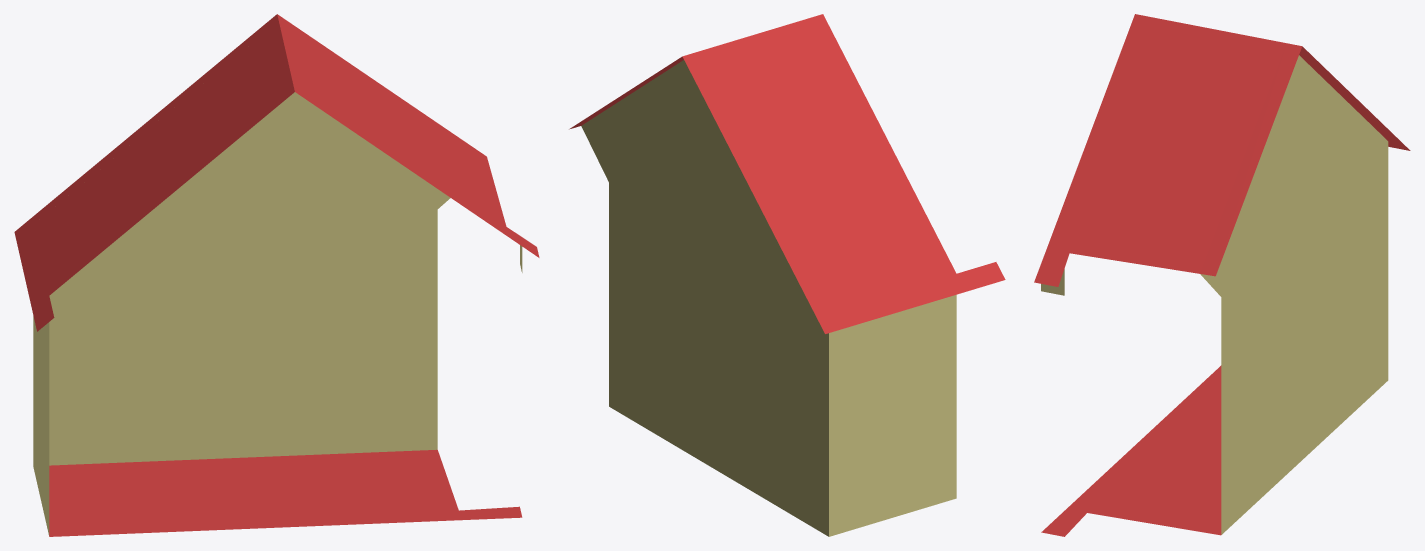
The picture shows the model from 3 angles, left to right: view 1: azimuth 30°, elevation 25°; view 2: azimuth 150°, elevation 25°; view 3: azimuth 270°, elevation 25°; orthographic projection. The views are drawn at different scales.
Size of the model in its own units: 15.39 by 11.03 by 13.92.
